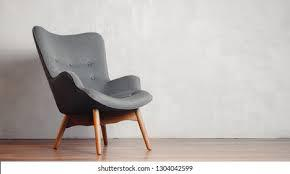chair: (24, 18, 163, 156)
